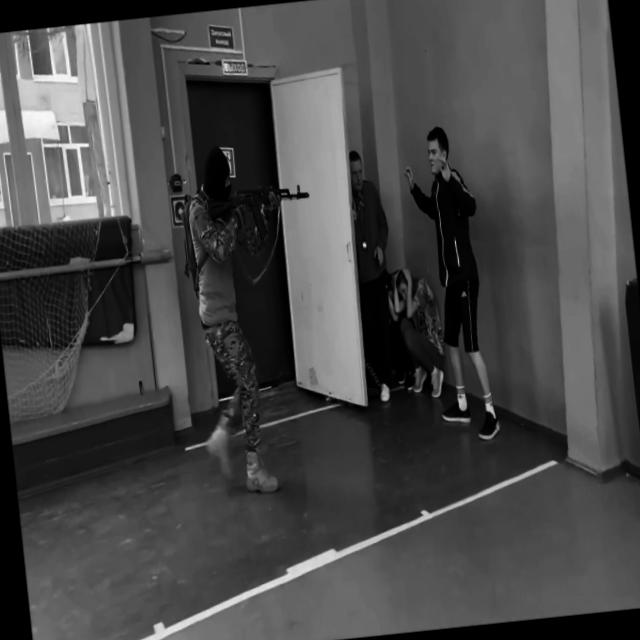gun: (203, 177, 314, 250)
person: (399, 122, 501, 445), (346, 148, 406, 404), (391, 262, 449, 400)
person with a gun: (176, 134, 340, 499)
